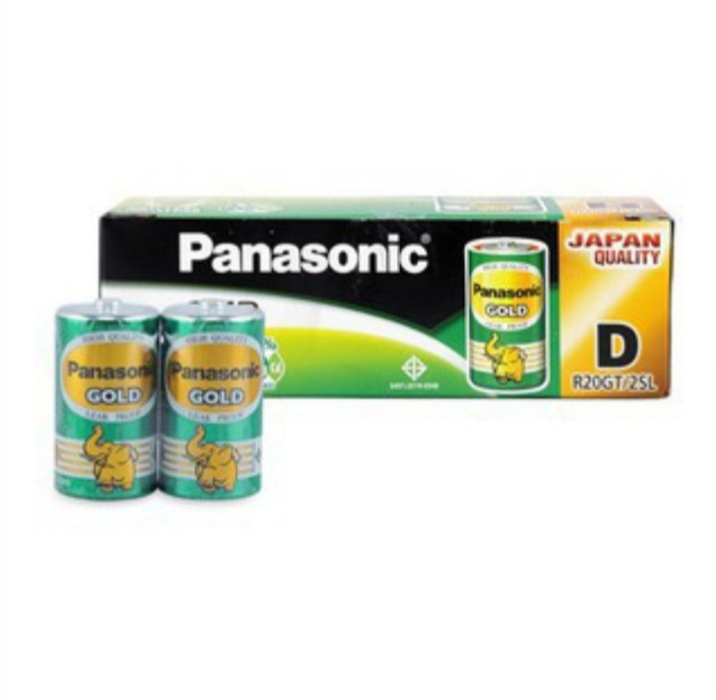Battery: (160, 295, 268, 506), (50, 297, 159, 504)
